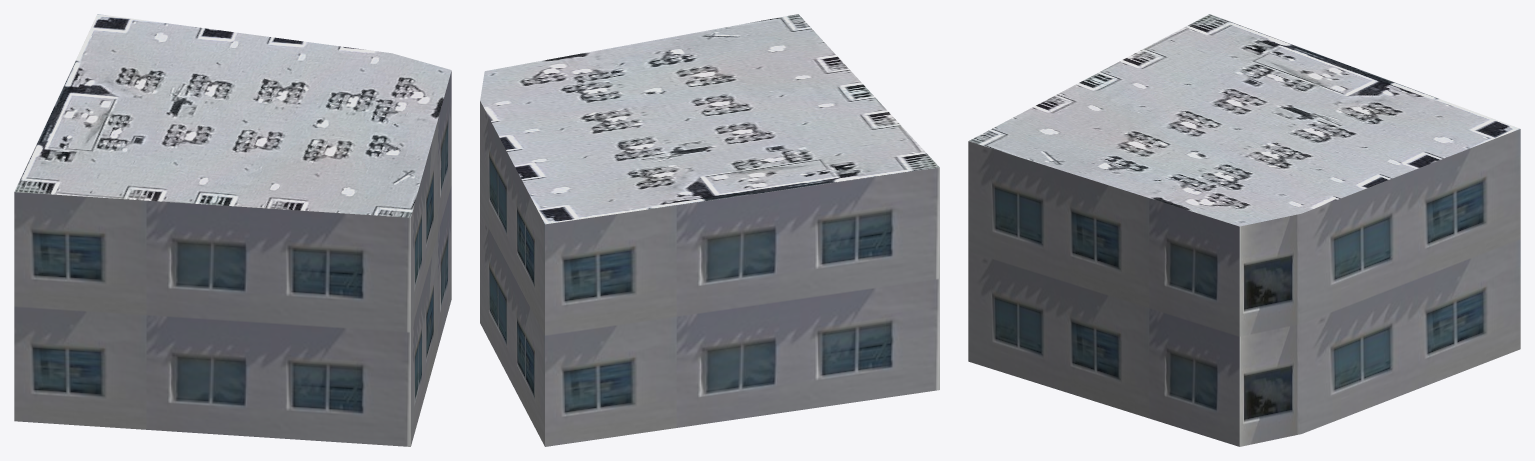
The model's file is ResTex__1314.fbx.
3 renders of one model, left to right at view 1: azimuth 30°, elevation 25°; view 2: azimuth 150°, elevation 25°; view 3: azimuth 270°, elevation 25°, orthographic. The views are drawn at different scales.
Visible parts, largest first — view 1: CityEngineMaterial_10_m, CityEngineMaterial_4_m; view 2: CityEngineMaterial_10_m, CityEngineMaterial_4_m; view 3: CityEngineMaterial_10_m, CityEngineMaterial_4_m.
Part boxes in pixels (x1,y1,x2,y2): CityEngineMaterial_10_m: (14, 71, 451, 446); CityEngineMaterial_4_m: (14, 14, 451, 217); CityEngineMaterial_10_m: (480, 101, 939, 446); CityEngineMaterial_4_m: (480, 14, 939, 224); CityEngineMaterial_10_m: (968, 129, 1520, 446); CityEngineMaterial_4_m: (968, 14, 1519, 226).
Size of the model in its own units: 12.41 by 6 by 13.62.
2 materials, 2 textured.
